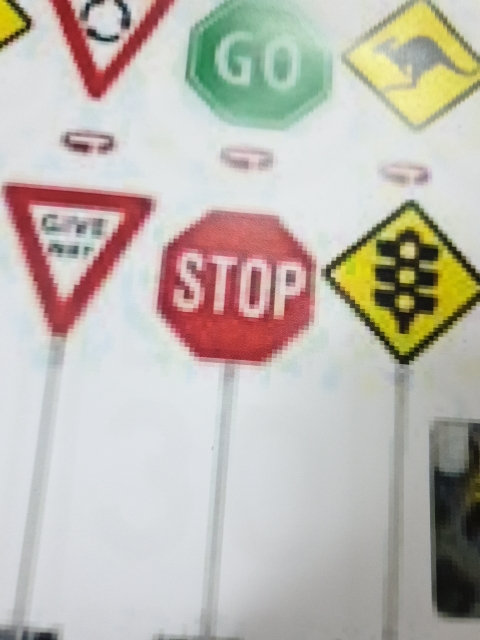giveway: (5, 184, 150, 333)
stop: (165, 207, 328, 366)
